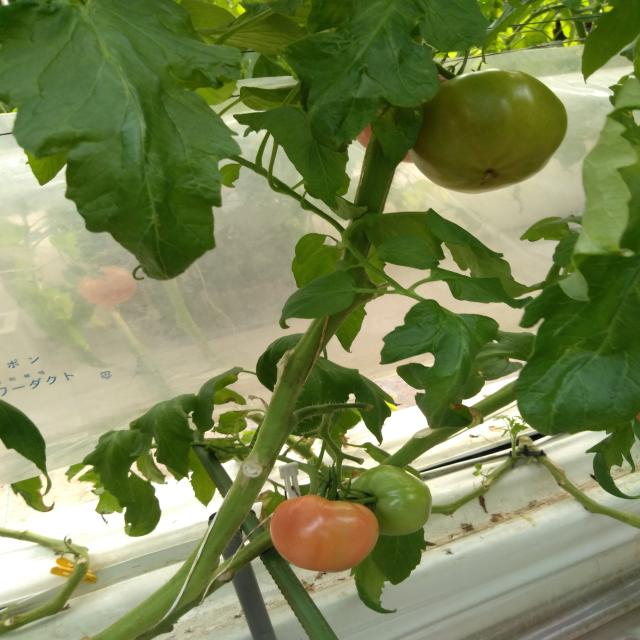yesil: (412, 59, 597, 192), (326, 428, 456, 530)
